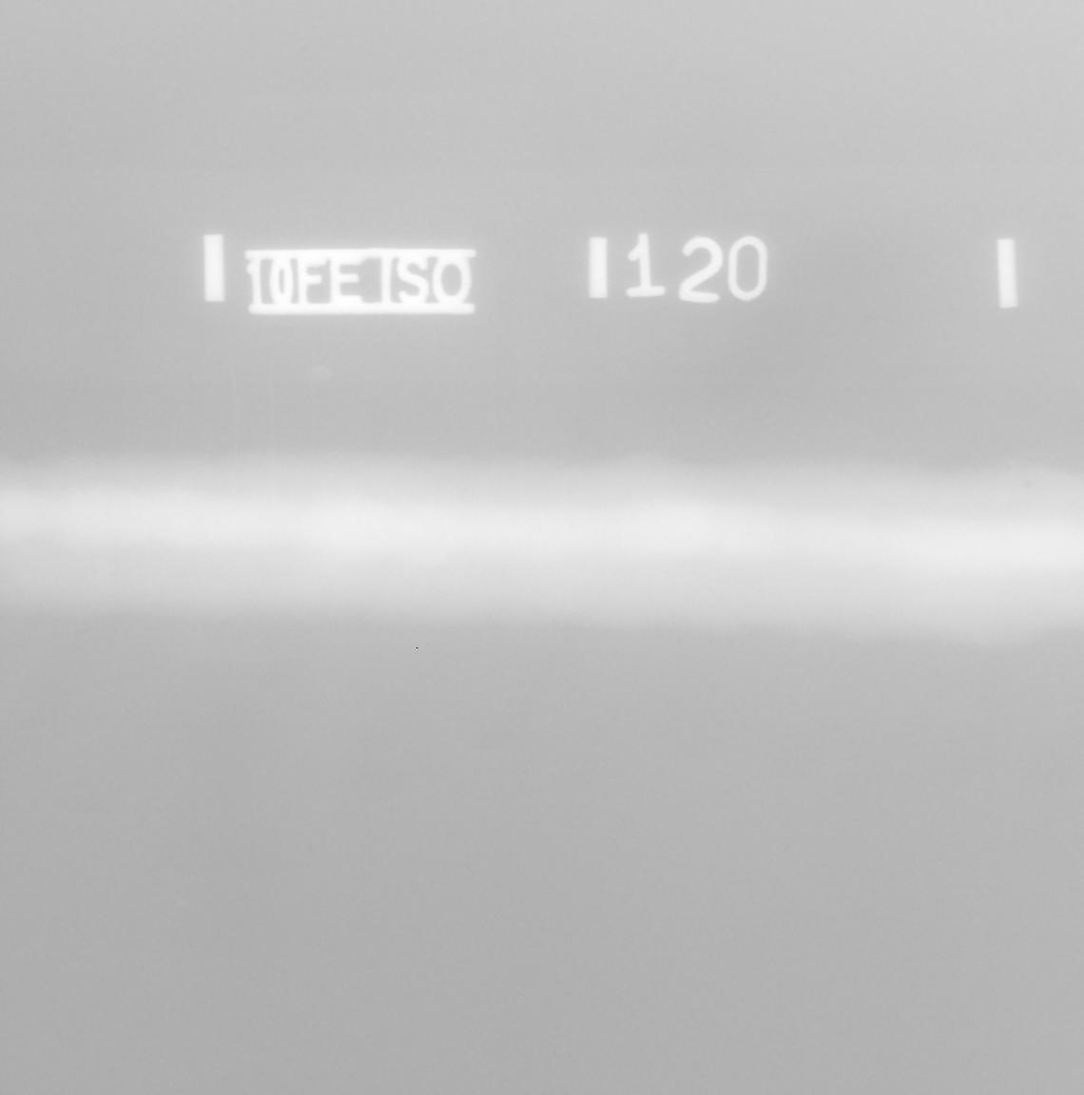Pore/Porosity: (1024, 476, 1043, 488)
